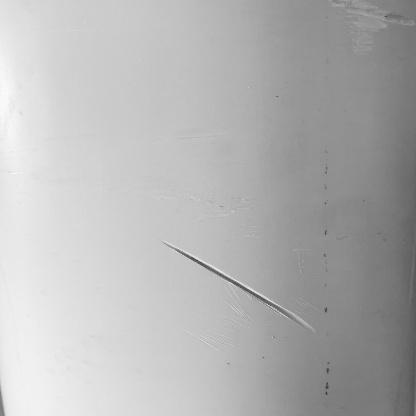sunshang: (160, 234, 319, 335)
